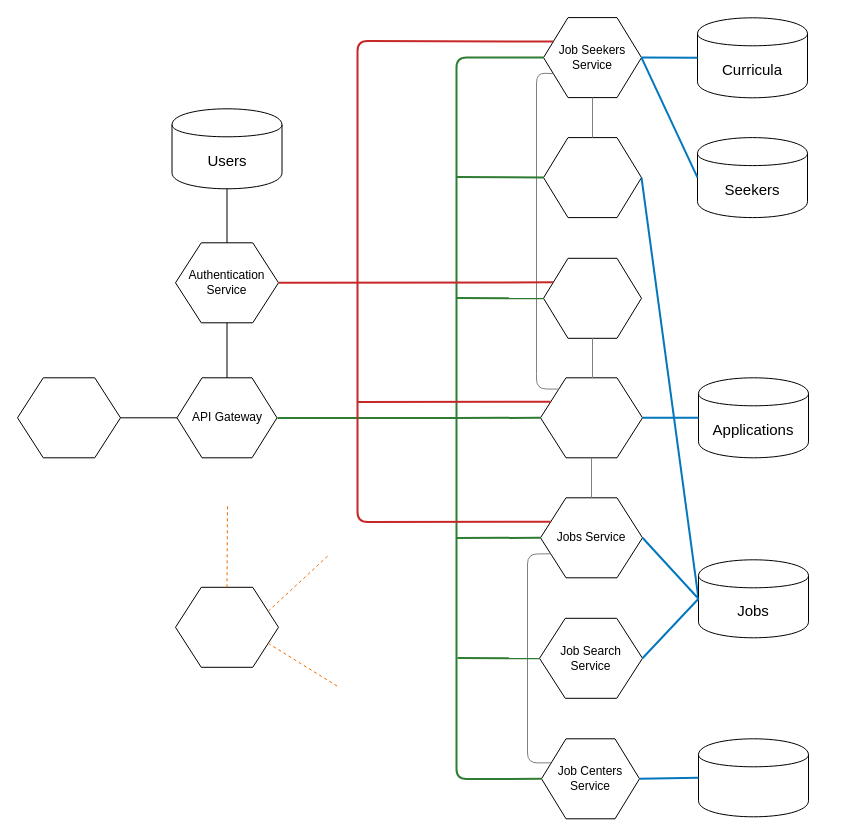
The diagram is 851 pixels wide and 837 high, and some of its shapes have lost their labels. The shapes that lost their labels are listed below. From the top down, each one's centre as x and y in pixels, then its label:
At pixel 592 177: "Job Advisor Service".
At pixel 592 297: "Notification Service".
At pixel 68 417: "Web App".
At pixel 591 417: "Applications Service".
At pixel 226 626: "Eureka Registry".
At pixel 753 777: "Centers".
